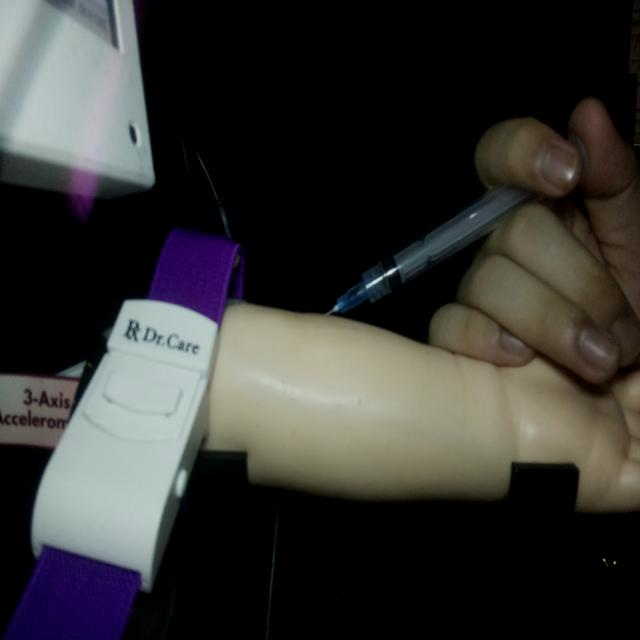26 degrees: (327, 132, 591, 317)
